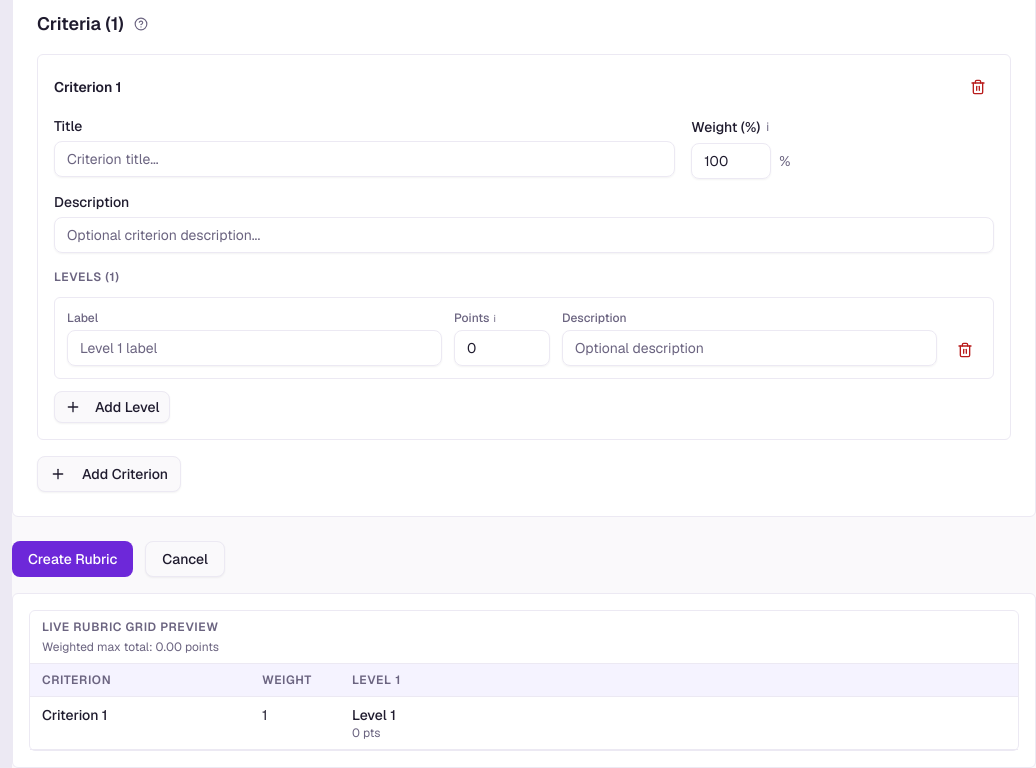
Test: RubricBuilderForm › create mode › adds a criterion when Add Criterion is clicked
Click the button "Add Criterion": click(109, 474) [37,456,181,492]
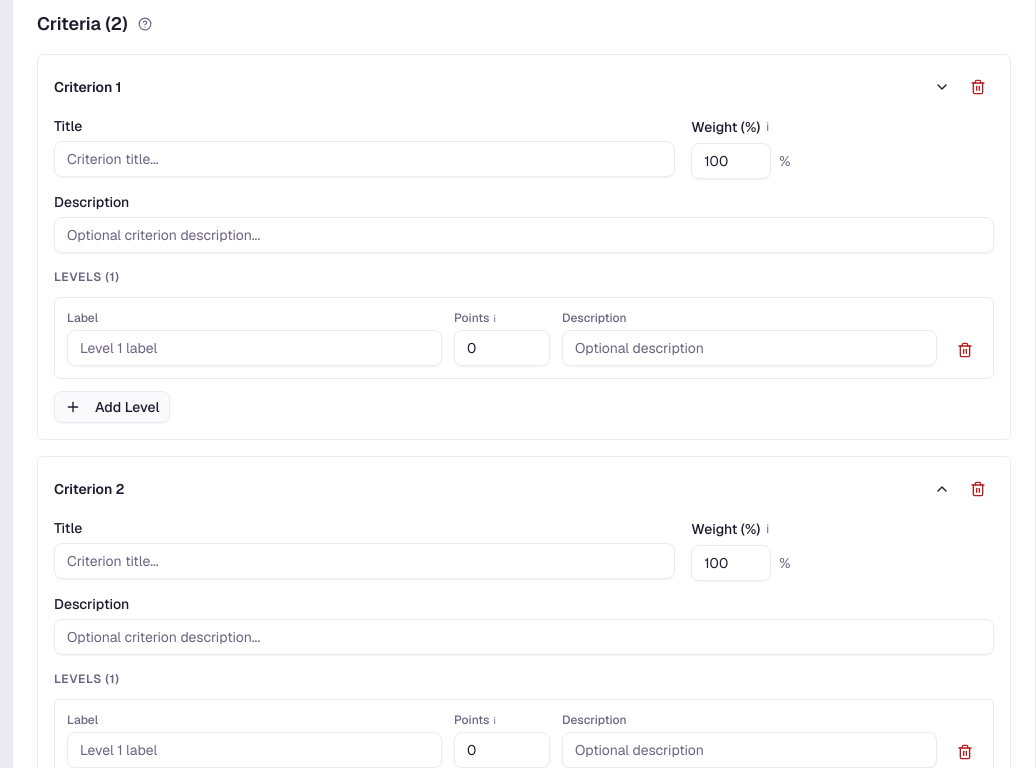
Expected: the heading "Criteria (2)" is shown, [37,10,128,38]
